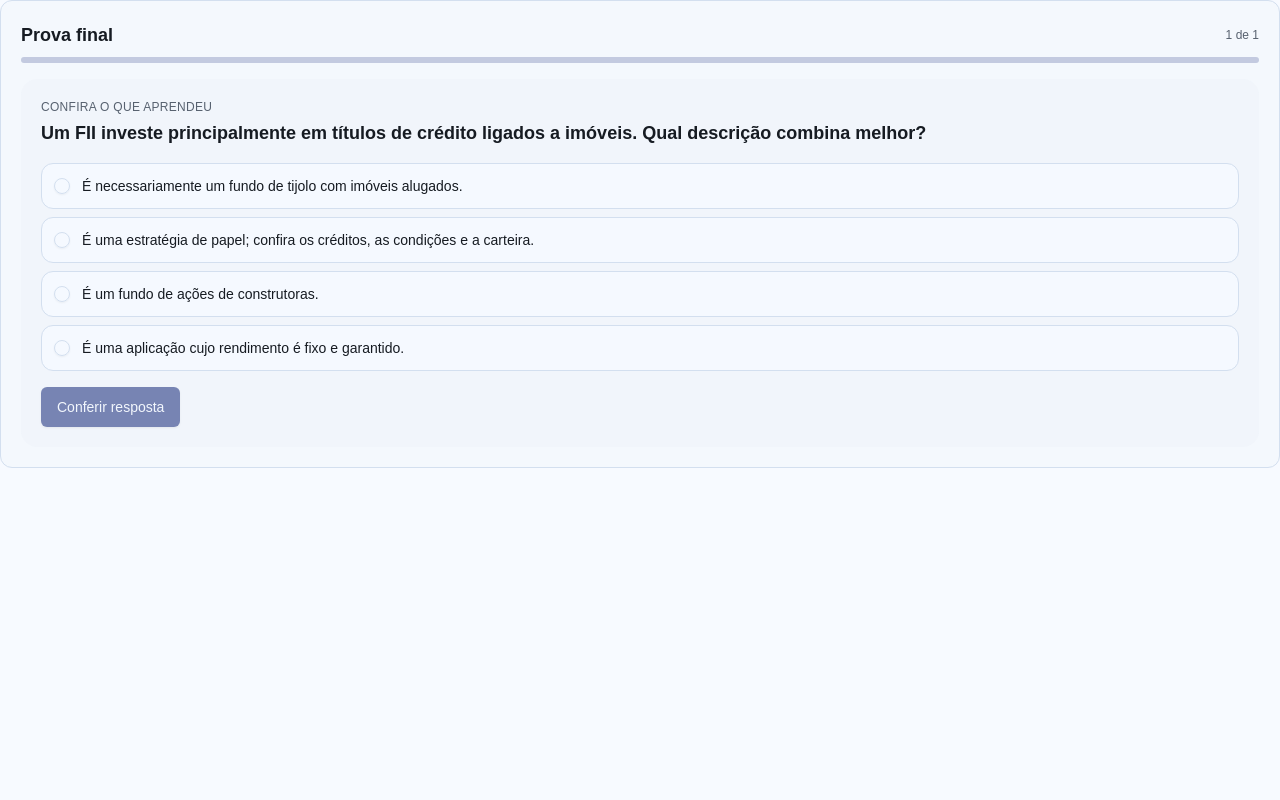
Test: AssetClassLearningAssessment › keeps the new-approval message static when reduced motion is preferred
Step 1. Click the 2nd radio button named "É uma estratégia de papel; confira os créditos, as condições e a carteira." → x=62, y=240, box [54,232,70,248]
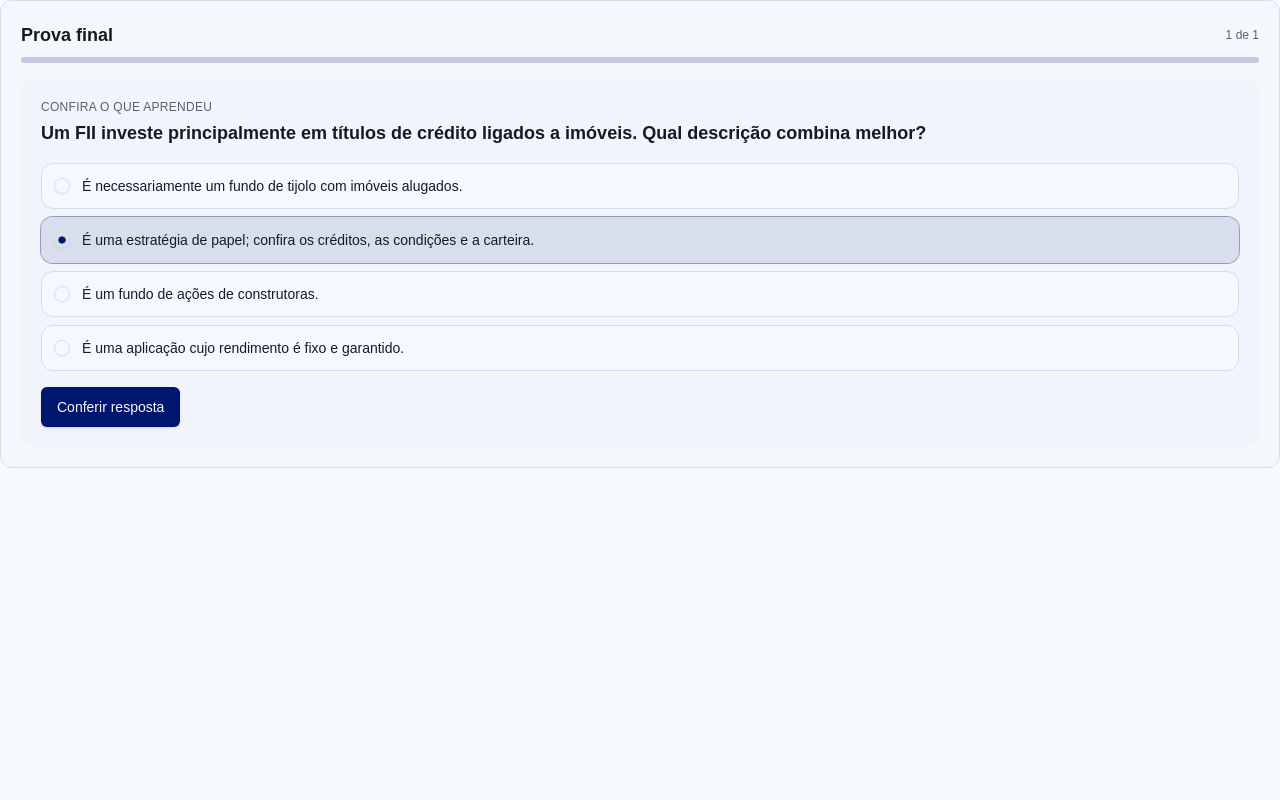
Step 2. Click the button "Conferir resposta" → x=111, y=407, box [41,387,180,427]
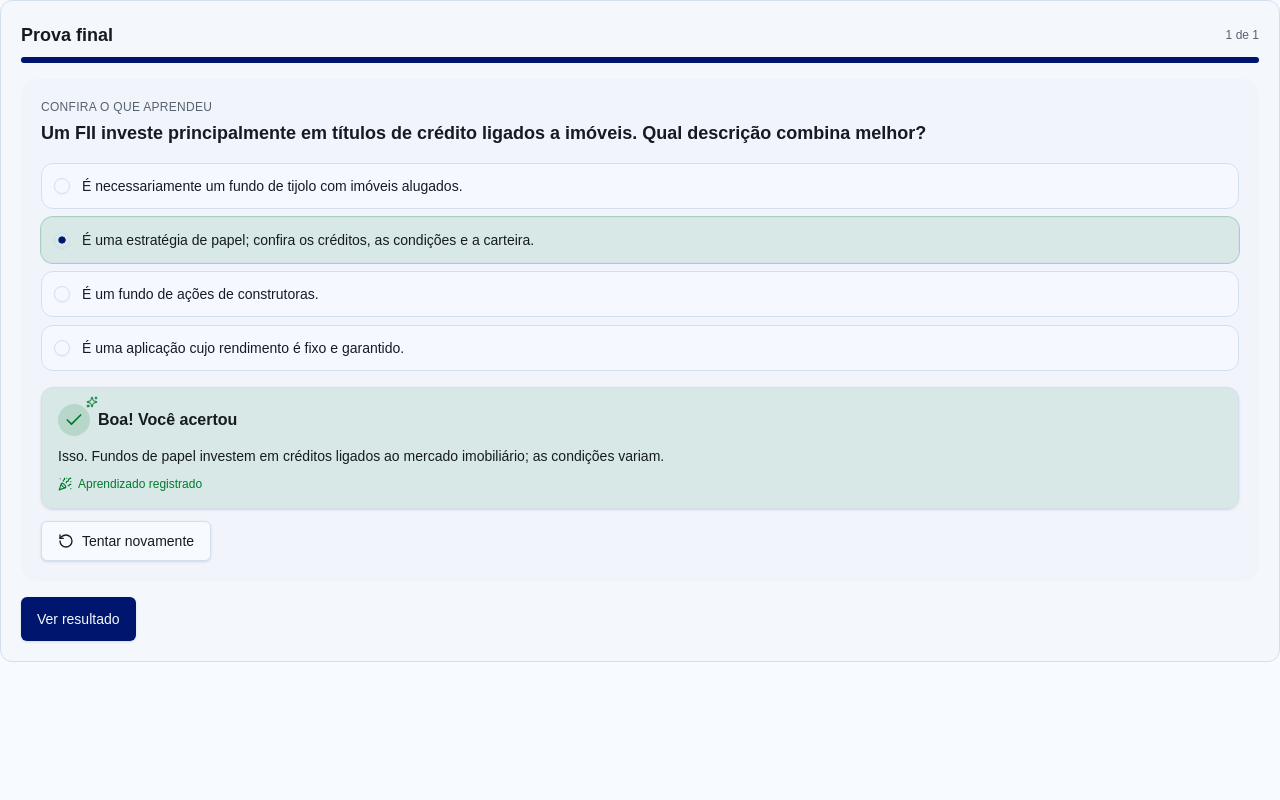
Step 3. Click the button "Ver resultado" → x=78, y=619, box [21,597,136,641]
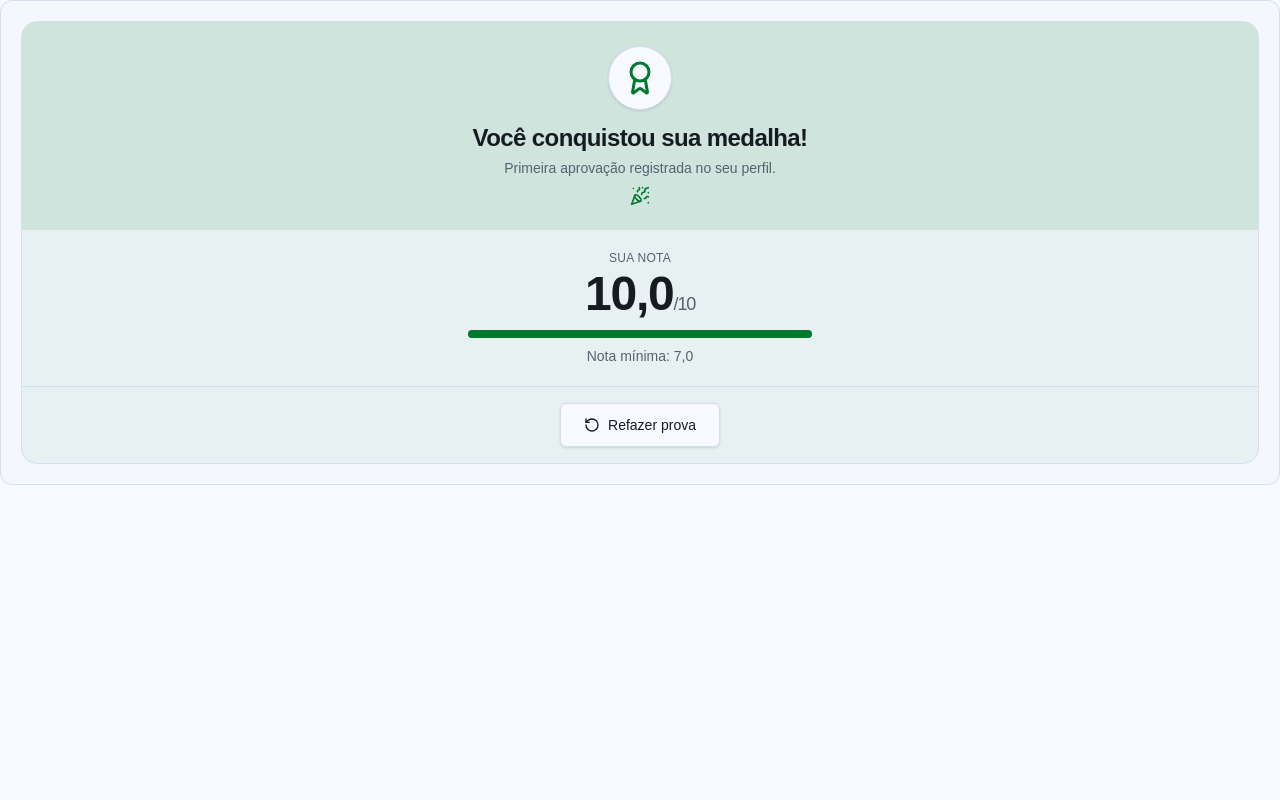
Expected: the heading "Você conquistou sua medalha!" is shown, [473,124,807,151]
